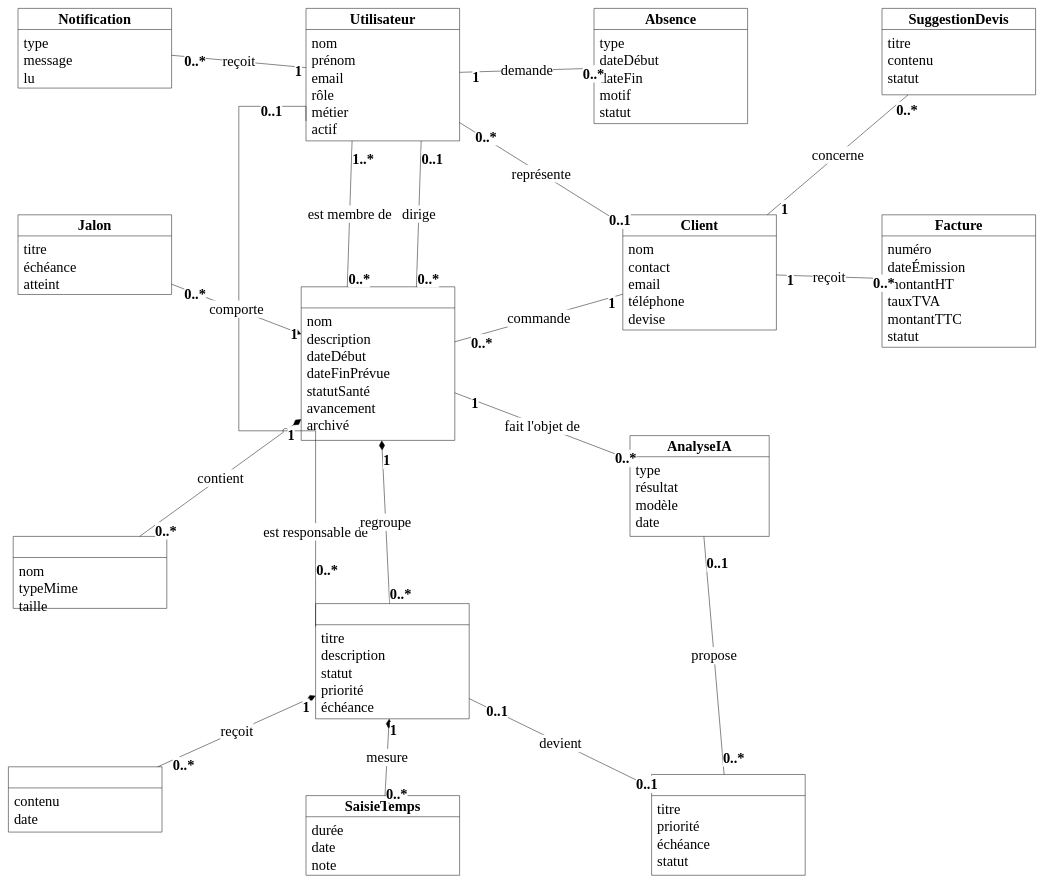
The diagram is 1044 pixels wide and 884 high, and some of its shapes have lost their labels. Each missing label, with the box of its shape:
CommentaireTâche: (8, 766, 162, 832)
Fichier: (13, 536, 167, 608)
Projet: (301, 286, 455, 440)
SuggestionTâche: (651, 774, 805, 875)
Tâche: (315, 603, 469, 719)
